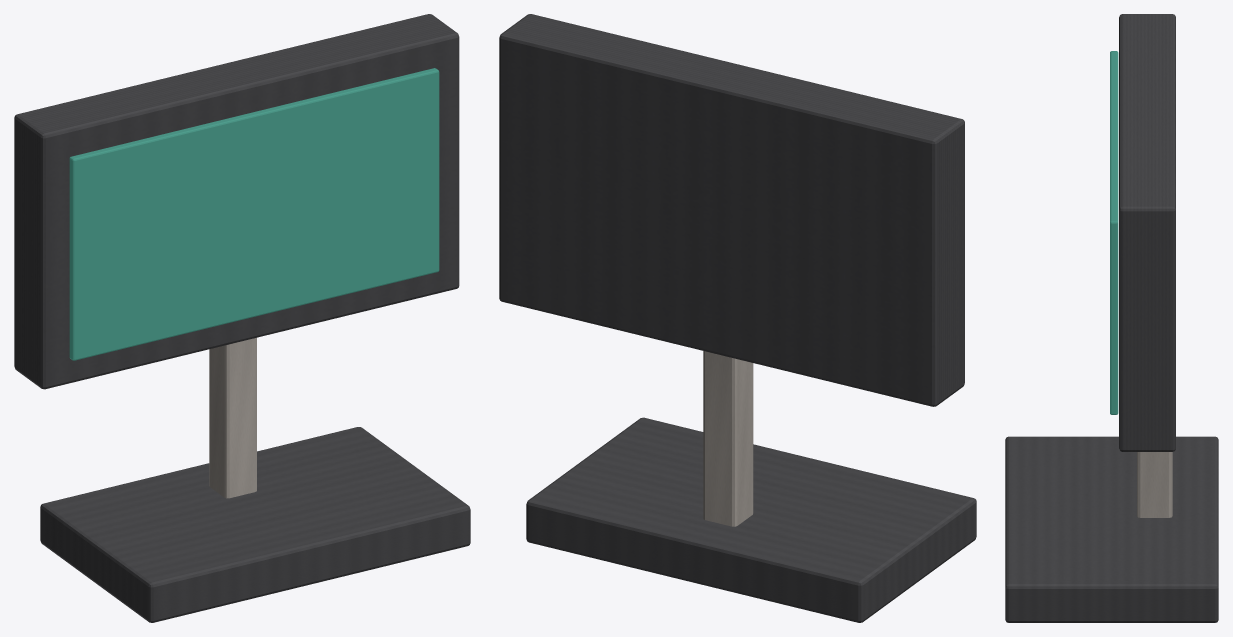
The model's file is desk_display.glb.
3 views of the same model, side by side, from view 1: azimuth 30°, elevation 25°; view 2: azimuth 150°, elevation 25°; view 3: azimuth 270°, elevation 25° (orthographic). The views are drawn at different scales.
Visible parts, largest first — view 1: screen.006, panel.001, display_base, stand; view 2: panel.001, display_base, stand; view 3: display_base, panel.001, screen.006, stand.
Boxes of the visible parts, x1=… form: screen.006: x1=69, y1=68, x2=439, y2=360; panel.001: x1=14, y1=14, x2=459, y2=389; display_base: x1=40, y1=427, x2=470, y2=622; stand: x1=209, y1=337, x2=256, y2=498; panel.001: x1=499, y1=14, x2=964, y2=406; display_base: x1=526, y1=417, x2=976, y2=622; stand: x1=703, y1=351, x2=753, y2=526; display_base: x1=1005, y1=436, x2=1218, y2=622; panel.001: x1=1119, y1=14, x2=1175, y2=451; screen.006: x1=1110, y1=51, x2=1118, y2=414; stand: x1=1137, y1=452, x2=1172, y2=517.
Bounding box in the file's own units: 0.65 × 0.68 × 0.3.
Materials: 3 (2 with a texture image).
